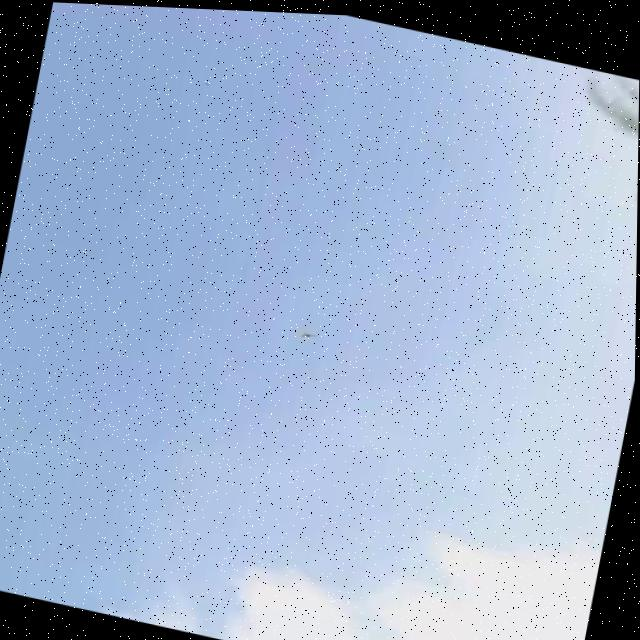drones: (274, 295, 352, 374)
